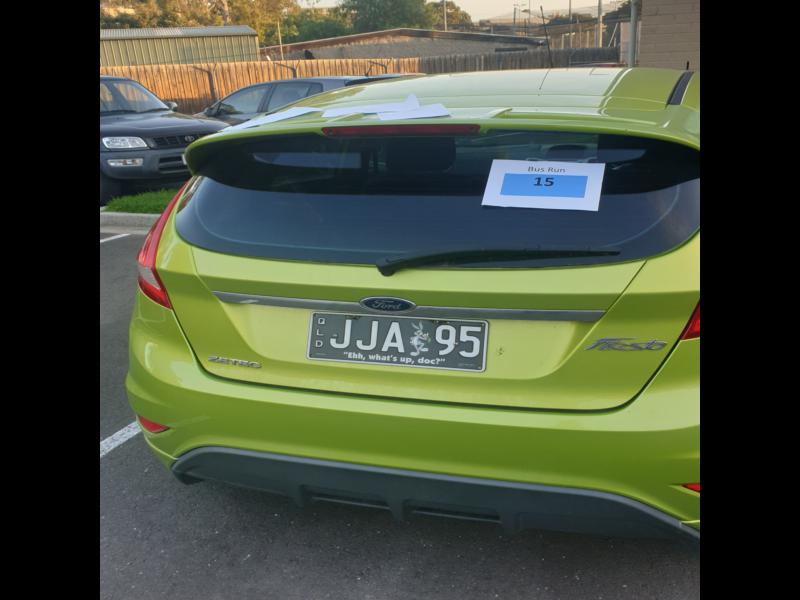BusRun: (500, 171, 589, 199)
PlateNo: (310, 308, 489, 371)
